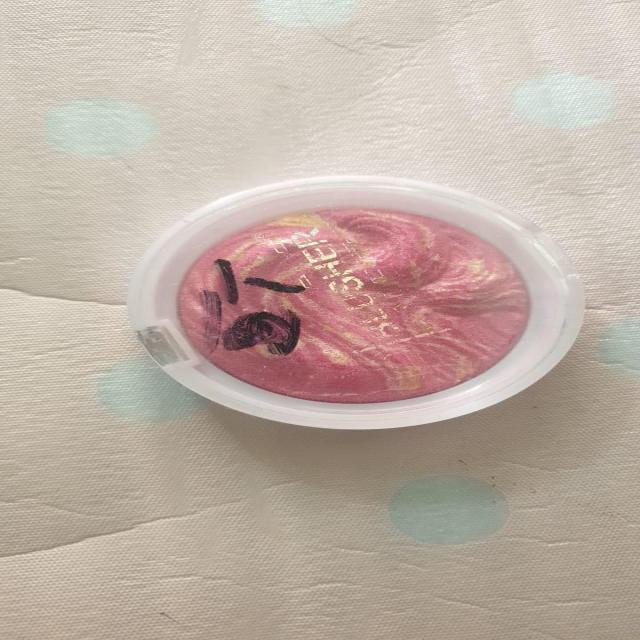blush: (138, 177, 594, 434)
